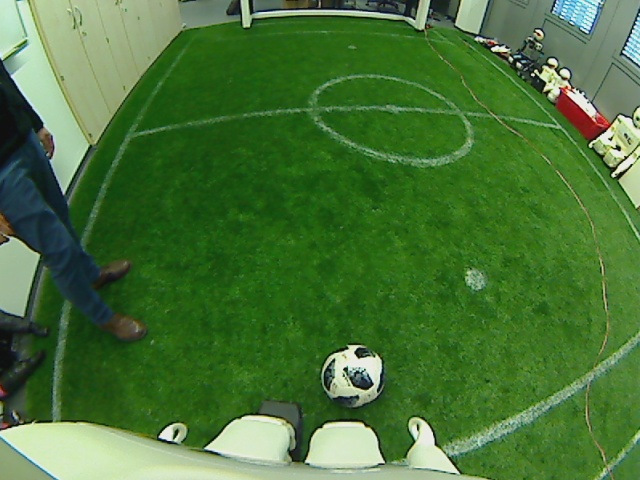ball: (318, 341, 384, 409)
